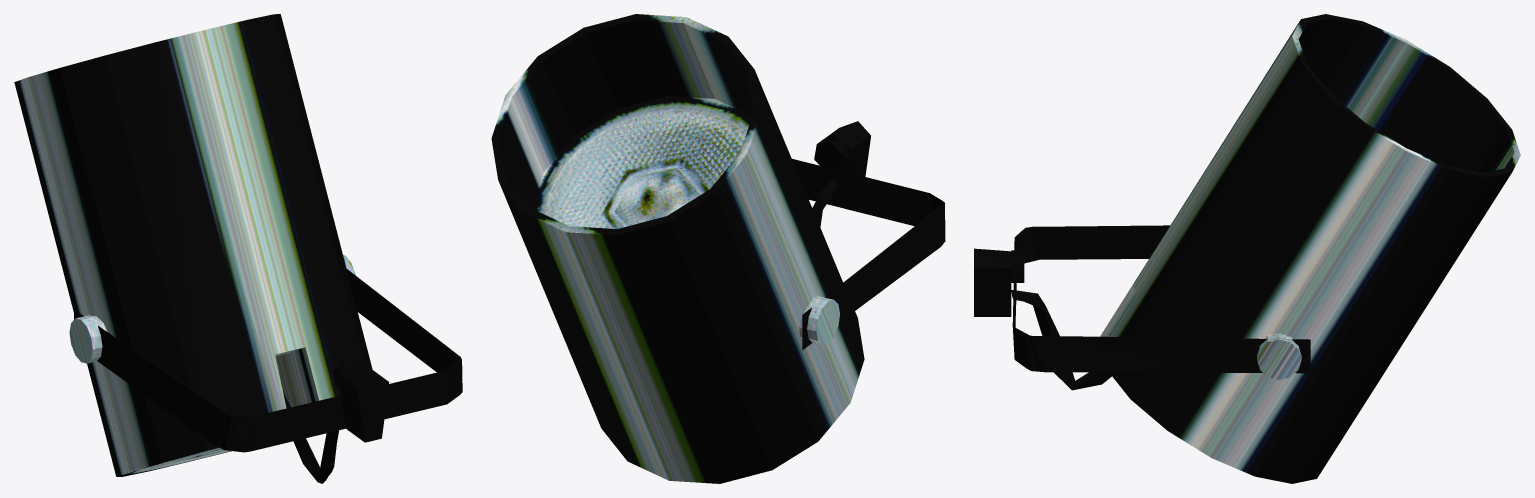
File: spotlight321_wtf.obj
The picture shows the model from 3 angles, left to right: view 1: azimuth 30°, elevation 25°; view 2: azimuth 150°, elevation 25°; view 3: azimuth 270°, elevation 25°; orthographic projection. The views are drawn at different scales.
Parts seen in each view (by area): view 1: group2, group5; view 2: group2, group4, group3, group5; view 3: group2, group4, group5.
Part boxes in pixels (box(x1,y1,x2,y2)): group2: box(14, 14, 462, 483); group5: box(69, 255, 355, 407); group2: box(491, 14, 945, 483); group4: box(499, 20, 753, 208); group3: box(532, 96, 751, 228); group5: box(799, 296, 839, 345); group2: box(974, 14, 1520, 483); group4: box(1298, 18, 1514, 172); group5: box(1100, 281, 1301, 379).
Bounding box in the file's own units: 352 × 567 × 660.
